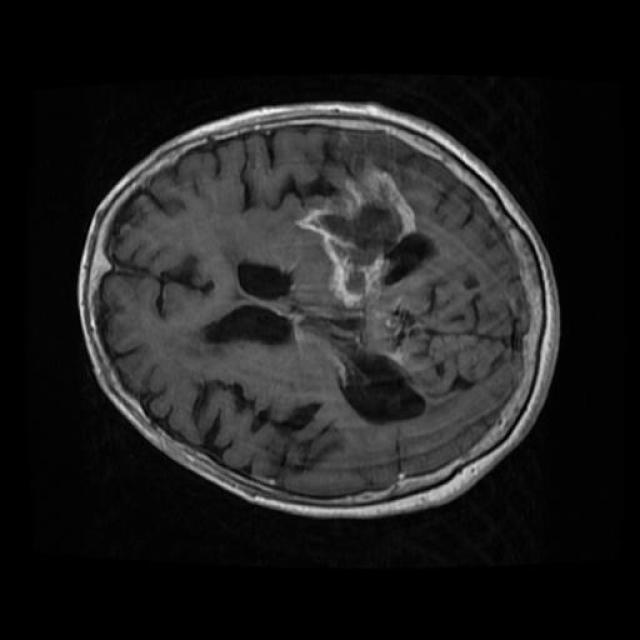Glioma: (297, 165, 415, 308)
